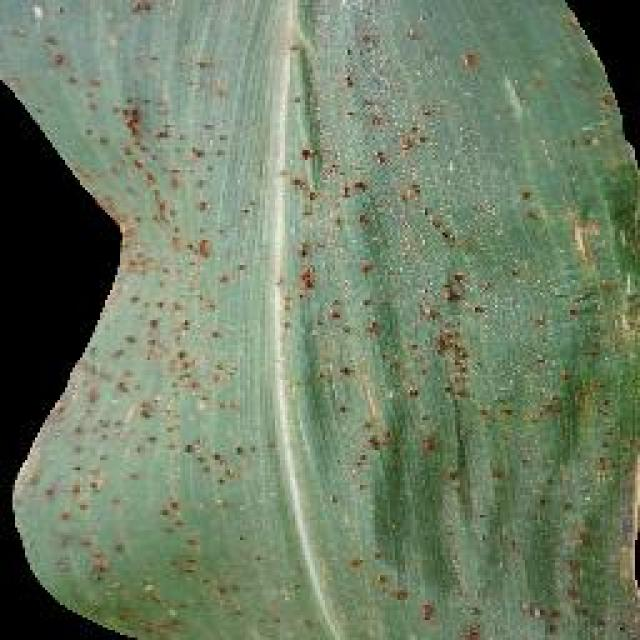Corn Common Rust: (77, 90, 588, 607)
